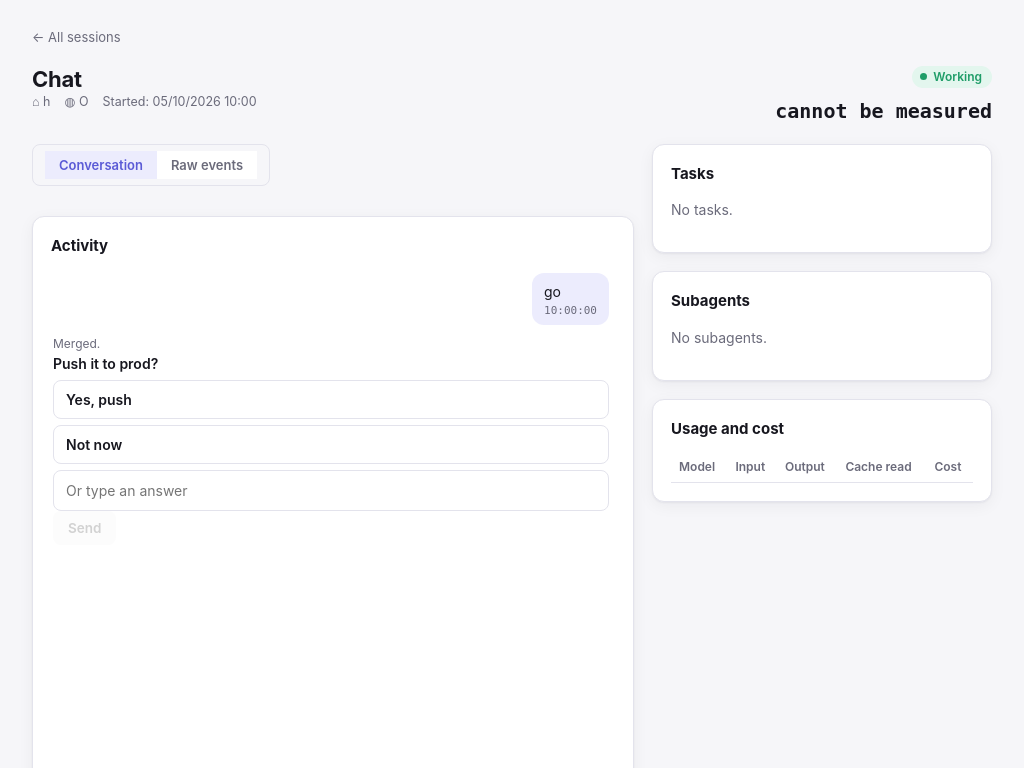
answering the desktop app's next-step question from the web › shows the question with its buttons and sends the button's message to the session as a prompt
Expected: the text "Push it to prod?" is shown, [53, 355, 158, 372]
Expected: the text "Merged." is shown, [53, 336, 100, 351]
Click the button "Yes, push".
click(99, 400)  # box [53, 380, 609, 419]
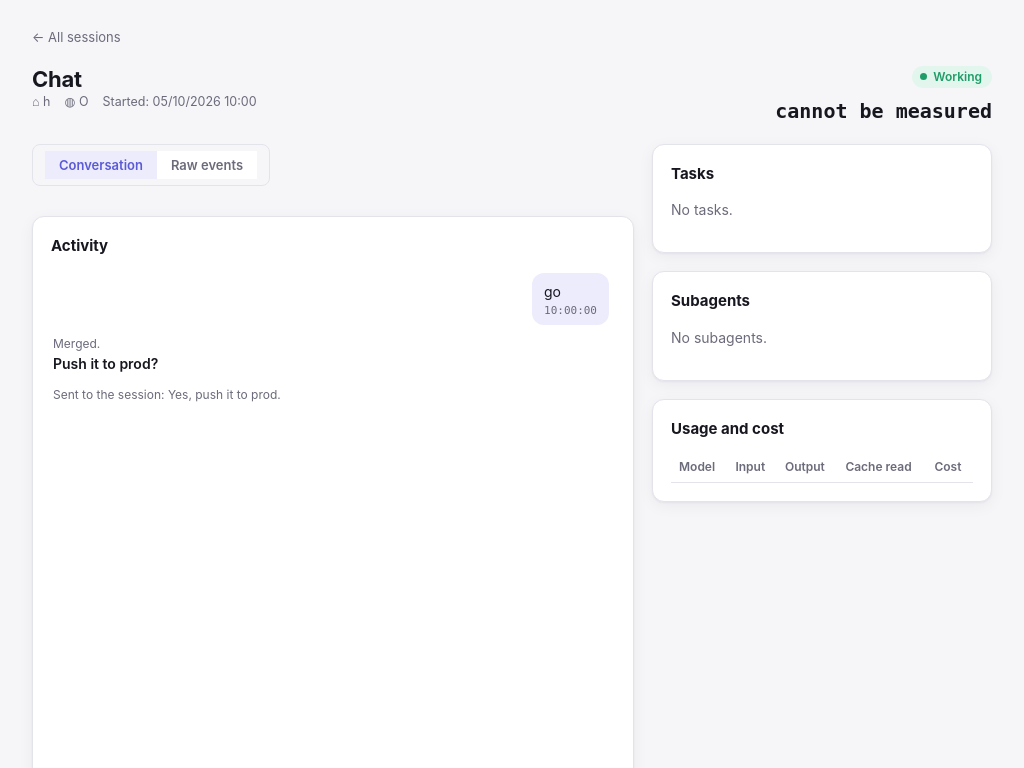
Expected: the text "Sent to the session: Yes, push it to prod." is shown, [53, 387, 281, 402]
